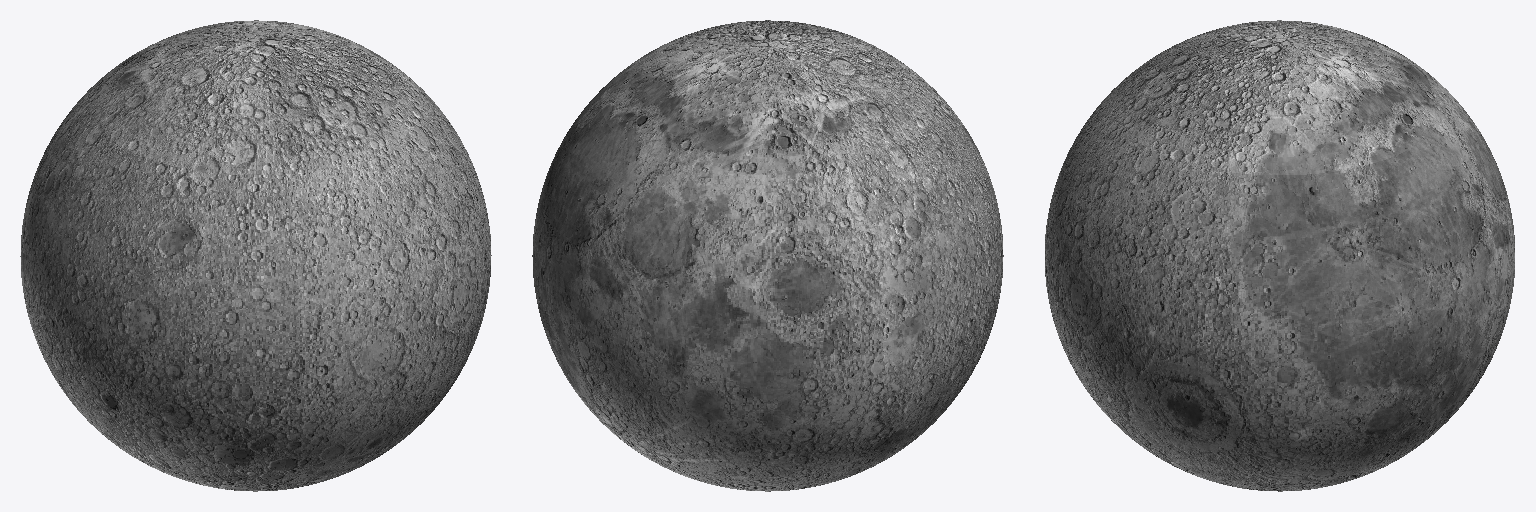
3 renders of one model, left to right at view 1: azimuth 30°, elevation 25°; view 2: azimuth 150°, elevation 25°; view 3: azimuth 270°, elevation 25°, orthographic.
Parts seen in each view (by area): view 1: Sphere001; view 2: Sphere001; view 3: Sphere001.
Boxes of the visible parts, x1,y1,x2,y2 form: Sphere001: [20, 20, 491, 491]; Sphere001: [532, 20, 1003, 491]; Sphere001: [1045, 20, 1514, 491].
Size of the model in its own units: 117 by 117 by 117.
1 materials, 1 textured.